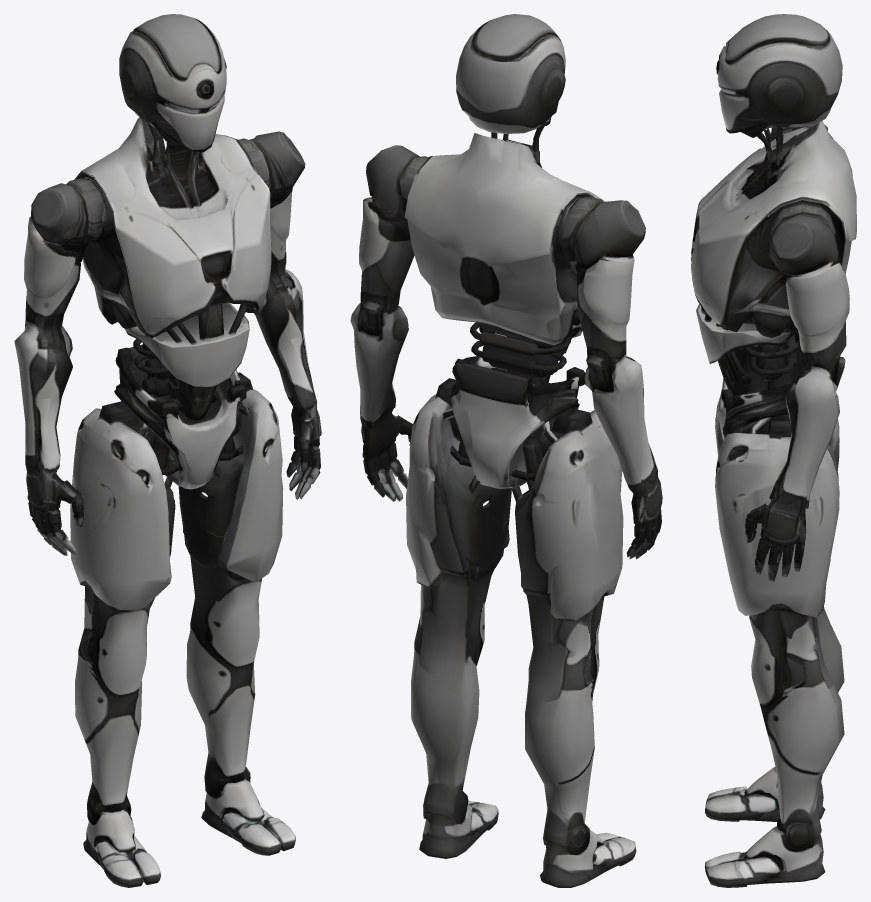
Rendered from robot.glb.
3 views of the same model, side by side, from view 1: azimuth 30°, elevation 25°; view 2: azimuth 150°, elevation 25°; view 3: azimuth 270°, elevation 25° (orthographic). The views are drawn at different scales.
Visible parts, largest first — view 1: tripo_03461081_69b2_4833_8c1e_bdf66e7364b0; view 2: tripo_03461081_69b2_4833_8c1e_bdf66e7364b0; view 3: tripo_03461081_69b2_4833_8c1e_bdf66e7364b0.
Part boxes in pixels (x1=…): tripo_03461081_69b2_4833_8c1e_bdf66e7364b0: x1=14, y1=14, x2=321, y2=887; tripo_03461081_69b2_4833_8c1e_bdf66e7364b0: x1=350, y1=14, x2=662, y2=887; tripo_03461081_69b2_4833_8c1e_bdf66e7364b0: x1=691, y1=14, x2=856, y2=887.
Bounding box in the file's own units: 0.3638 × 0.9995 × 0.1821.
1 material, 1 textured.
